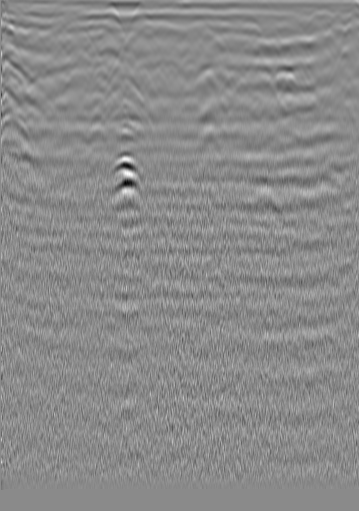가스: (100, 154, 146, 184)
상수: (43, 20, 63, 40)
오수: (294, 21, 314, 41)
우수: (168, 26, 188, 46)
